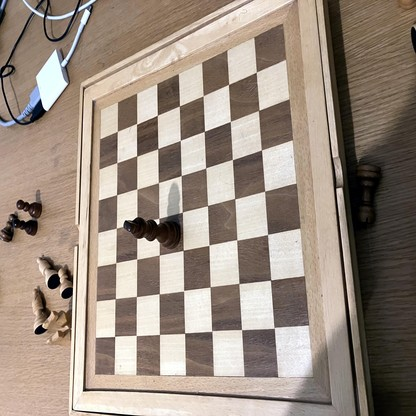bishop_white: (32, 288, 48, 334)
king_black: (124, 219, 180, 251)
knight_white: (43, 311, 70, 331), (46, 333, 74, 347)
pawn_black: (17, 200, 41, 219), (0, 214, 15, 242), (14, 219, 36, 236)
pawn_white: (58, 265, 73, 298)
queen_white: (37, 255, 59, 289)
rock_black: (355, 165, 381, 224)
